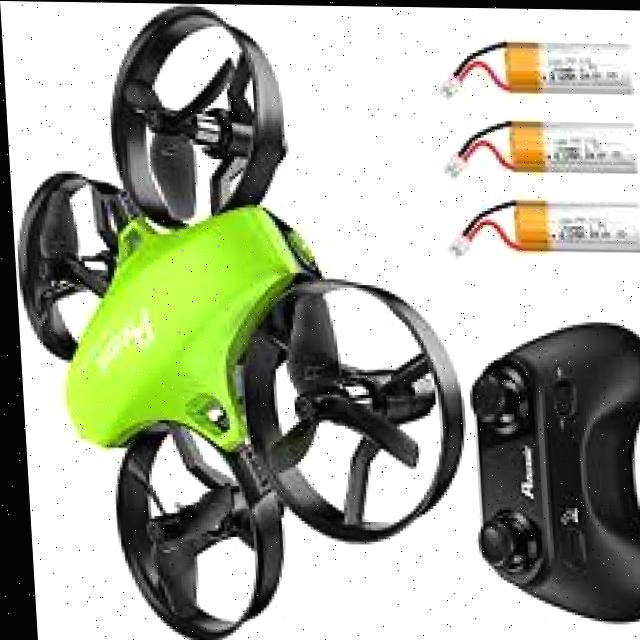drone: (7, 2, 471, 640)
